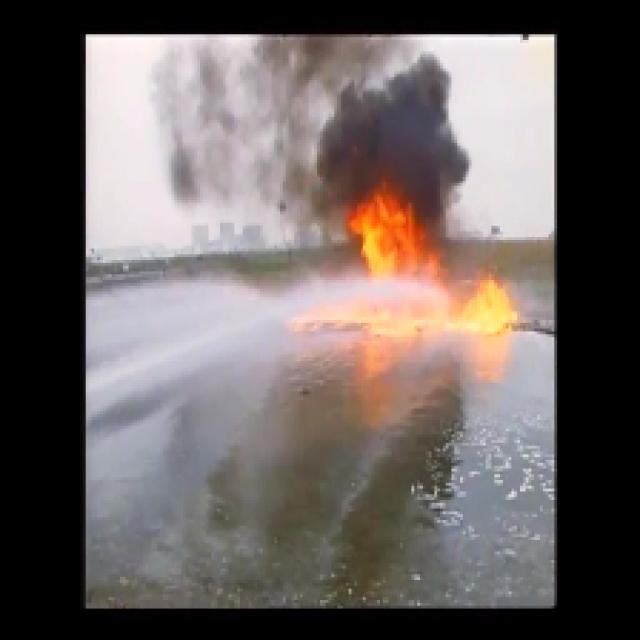fire: (358, 197, 411, 269)
smoke: (318, 64, 459, 186)
